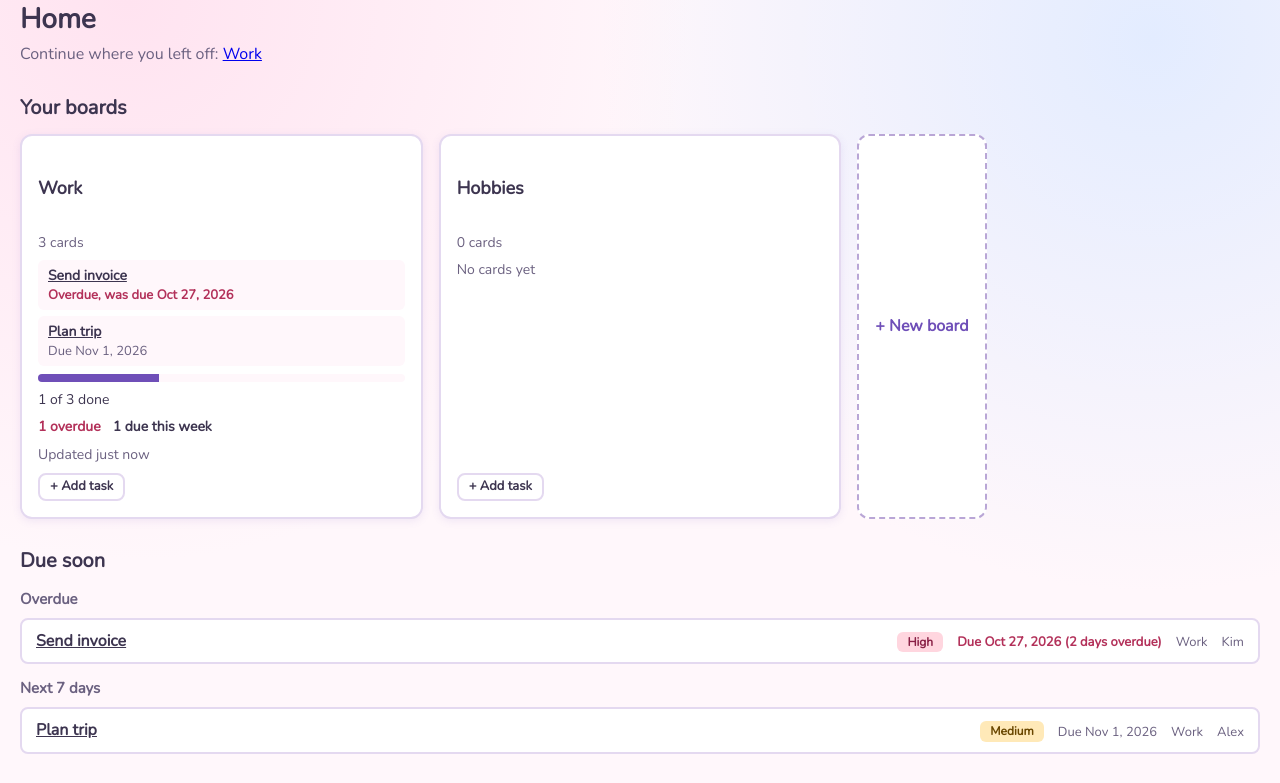
Test: adding a task from a tile › closes without adding anything when you click outside the form
Click the button with aria-label "Add task to Work": point(82, 487) [38,473,125,501]
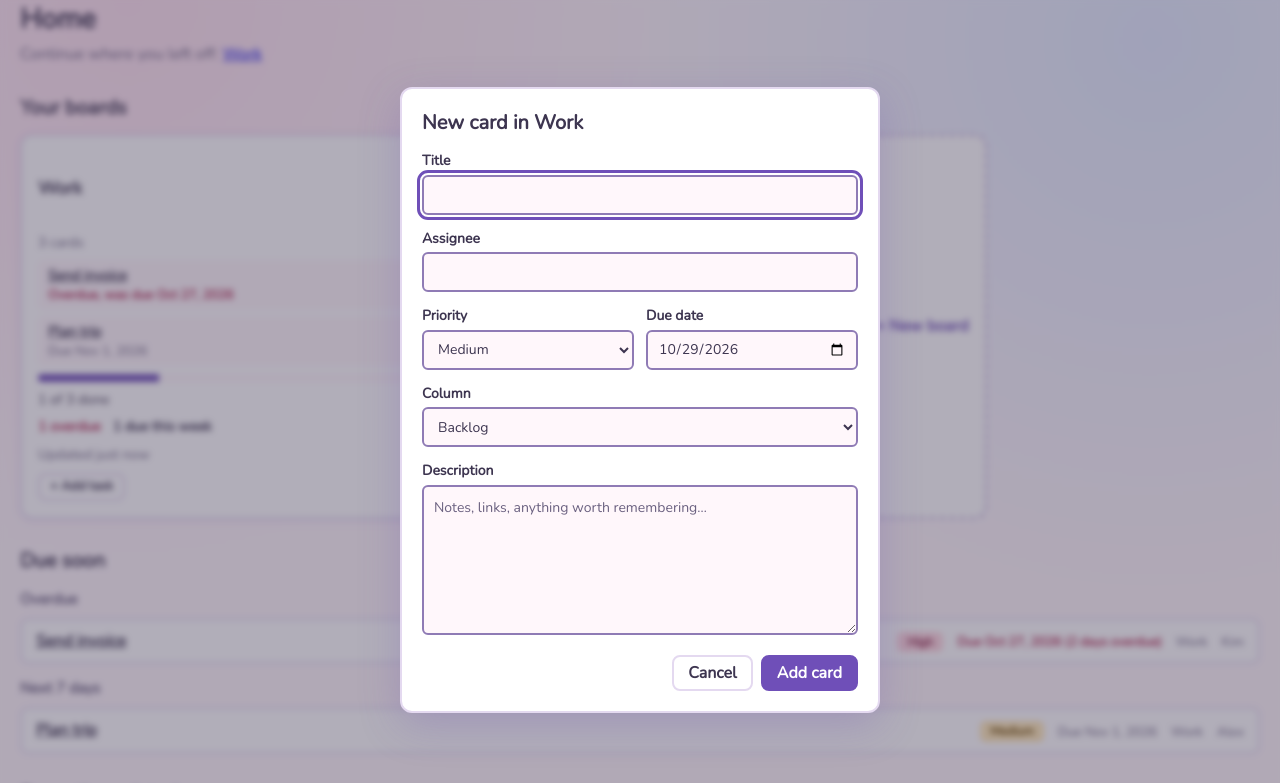
In the field labelled "Title": point(640, 195) [422,175,858,215], type "Half written"
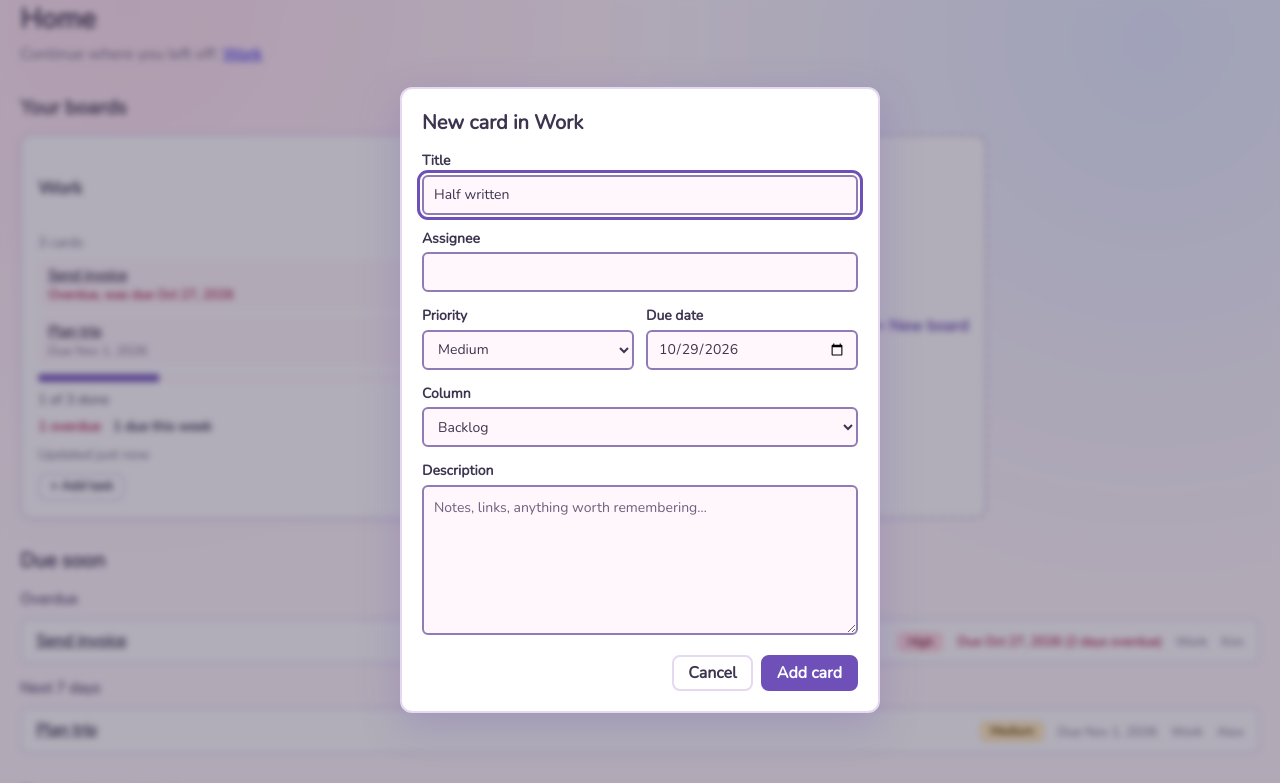
Click the dialog "New card in Work": point(640, 400) [400,87,880,713]
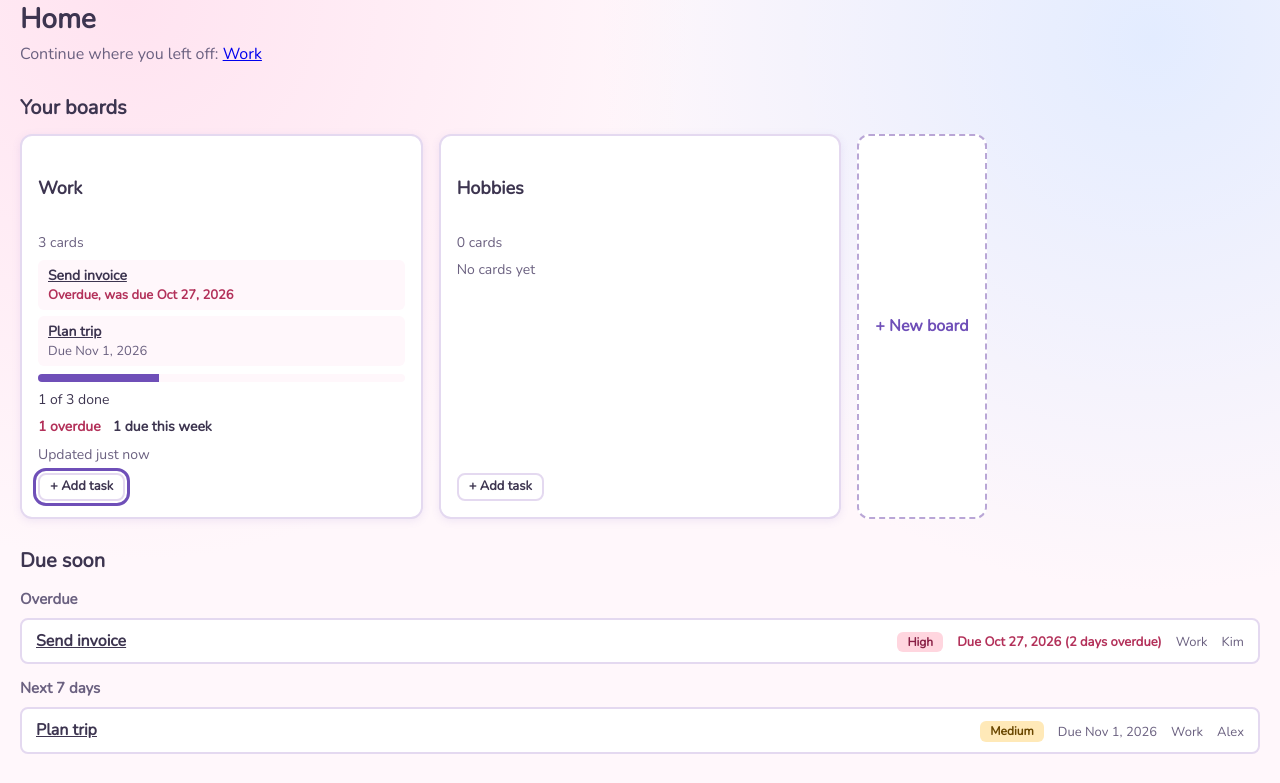
Check: the heading "New card" is gone
